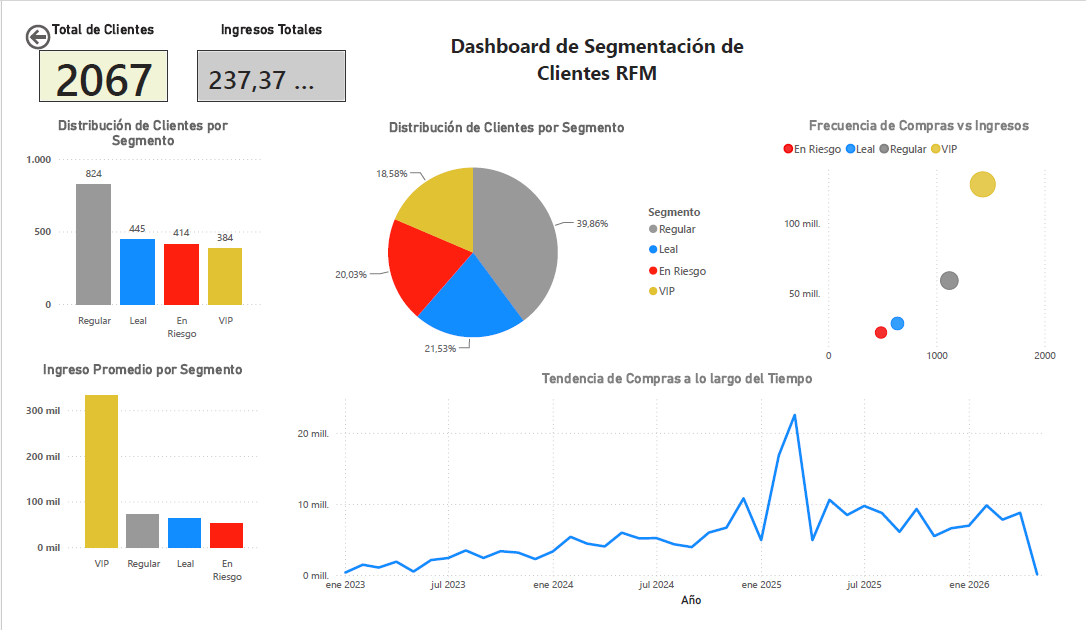

What the dashboard file says about the page in this screenshot:
{"tool":"powerbi","page":{"name":"Página 1","canvas":[1280,720],"ordinal":0},"visuals":[{"type":"clusteredColumnChart","title":"Distribución de Clientes por Segmento","fields":{"Category":["rfm_1.Segmentación"],"Y":["CountNonNull(rfm_1.ClienteID)"]},"box":[0,116.5,297.3,280.3],"z":0},{"type":"clusteredColumnChart","title":"Ingreso Promedio por Segmento","fields":{"Category":["rfm_customers.Segmentación"],"Y":["rfm_customers.Promedio Ganancias"]},"box":[0,415.3,297.4,279.1],"z":1000},{"type":"pieChart","title":"Distribución de Clientes por Segmento","fields":{"Category":["rfm_customers.Segmentación"],"Y":["CountNonNull(rfm_customers.ClienteID)"]},"box":[331.6,119.5,521.4,307.6],"z":2000},{"type":"cardVisual","title":"Total de Clientes","fields":{"Data":["Count(rfm_customers.ClienteID)"]},"box":[4.5,0,191.2,116.5],"z":3000},{"type":"cardVisual","title":"Ingresos Totales","fields":{"Data":["Sum(rfm_customers.Monto)"]},"box":[197.4,0,216.6,116.5],"z":4000},{"type":"scatterChart","title":"Frecuencia de Compras vs Ingresos","fields":{"X":["Sum(rfm_customers.Frecuencia)"],"Y":["Sum(rfm_customers.Monto)"],"Series":["rfm_customers.Segmentación"],"Size":["Sum(rfm_customers.Monto)"]},"box":[924.6,116.5,342.1,310.7],"z":5000},{"type":"actionButton","box":[0,0,100,40],"z":6000},{"type":"lineChart","title":"Tendencia de Compras a lo largo del Tiempo","fields":{"Y":["Sum(tendencia_ventas.TotalOrden)"],"Category":["tendencia_ventas.Fecha.Variación.Jerarquía de fechas.Año","tendencia_ventas.Fecha.Variación.Jerarquía de fechas.Mes"]},"box":[331.6,427.2,938,292.4],"z":7000},{"type":"textbox","box":[479.5,9,445.1,95.6],"z":8000}]}

Visuals, with their boxes on the page's 1280x720 design canvas (x1, y1, x2, y2). These are canvas units, not pixel positions in the 1086x630 screenshot, which may show the page scaled, cropped or inside an application window:
"Distribución de Clientes por Segmento" clusteredColumnChart: (x1=0, y1=116, x2=297, y2=397)
"Ingreso Promedio por Segmento" clusteredColumnChart: (x1=0, y1=415, x2=297, y2=694)
"Distribución de Clientes por Segmento" pieChart: (x1=332, y1=120, x2=853, y2=427)
"Total de Clientes" cardVisual: (x1=4, y1=0, x2=196, y2=116)
"Ingresos Totales" cardVisual: (x1=197, y1=0, x2=414, y2=116)
"Frecuencia de Compras vs Ingresos" scatterChart: (x1=925, y1=116, x2=1267, y2=427)
actionButton: (x1=0, y1=0, x2=100, y2=40)
"Tendencia de Compras a lo largo del Tiempo" lineChart: (x1=332, y1=427, x2=1270, y2=720)
textbox: (x1=480, y1=9, x2=925, y2=105)
